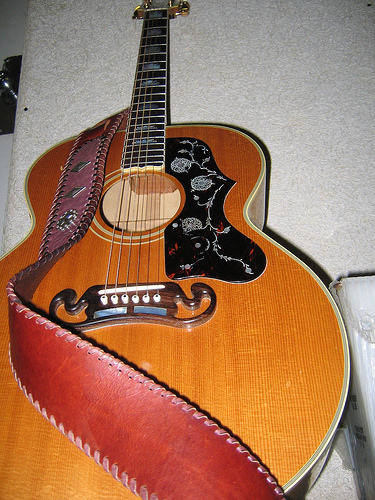guitar: (1, 1, 354, 494)
